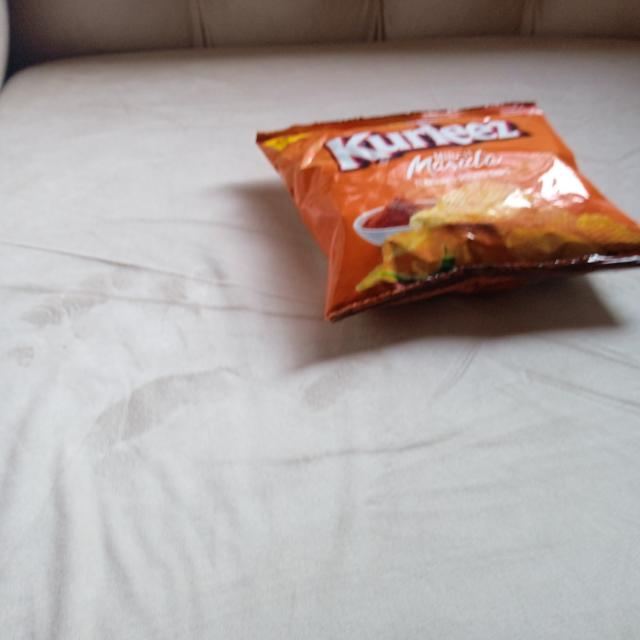Plastic: (240, 100, 640, 322)
